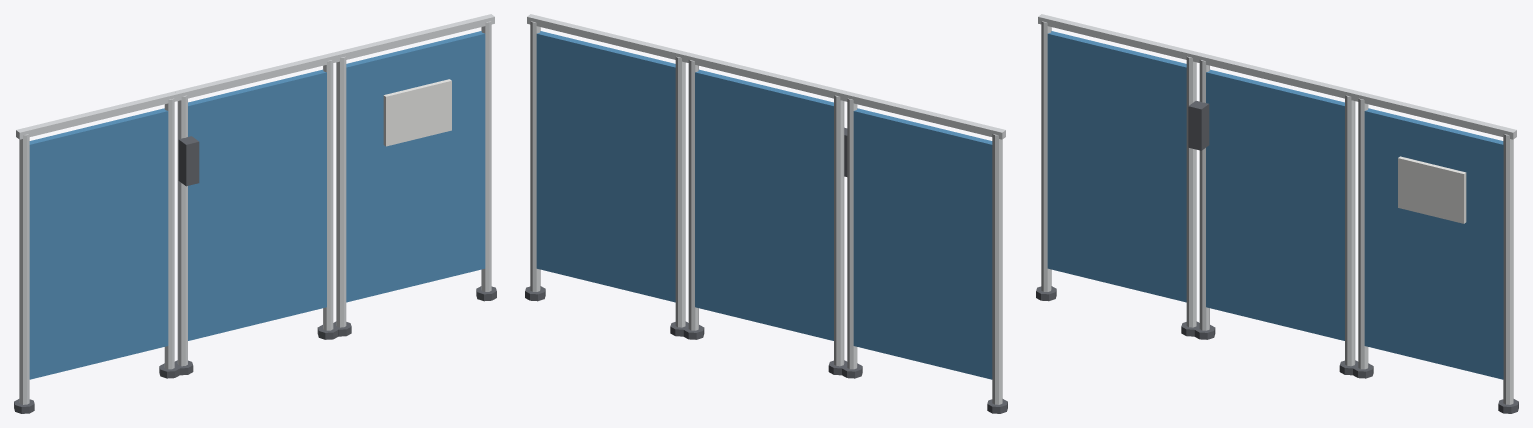
File: shipyard-and-dry-dock-shipyard-and-dry-dock-welding-ba-203ec019__37946.glb
3 renders of one model, left to right at view 1: azimuth 30°, elevation 25°; view 2: azimuth 150°, elevation 25°; view 3: azimuth 330°, elevation 25°, orthographic.
Visible parts, largest first — view 1: shipyard-and-dry-dock-welding-bay-screen, screen-leaf/blue, screen-leaf/steel (×3); view 2: shipyard-and-dry-dock-welding-bay-screen, screen-leaf/blue, screen-leaf/steel (×3); view 3: shipyard-and-dry-dock-welding-bay-screen, screen-leaf/blue, screen-leaf/steel (×3).
Part boxes in pixels (bbox=[...]): shipyard-and-dry-dock-welding-bay-screen: bbox=[174, 14, 496, 375]; screen-leaf/blue: bbox=[29, 108, 168, 379]; screen-leaf/steel (×3): bbox=[16, 91, 178, 404]; shipyard-and-dry-dock-welding-bay-screen: bbox=[525, 14, 847, 375]; screen-leaf/blue: bbox=[853, 108, 992, 379]; screen-leaf/steel (×3): bbox=[843, 91, 1005, 404]; shipyard-and-dry-dock-welding-bay-screen: bbox=[1188, 52, 1518, 413]; screen-leaf/blue: bbox=[1047, 31, 1186, 302]; screen-leaf/steel (×3): bbox=[1038, 14, 1199, 327].
Bounding box in the file's own units: 3.64 × 2.03 × 0.1999.
